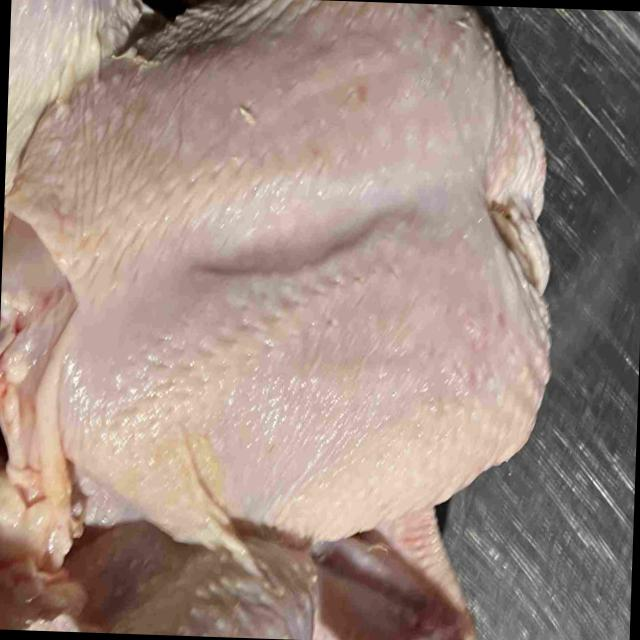breast: (19, 0, 549, 543)
leg: (5, 0, 142, 177), (92, 534, 317, 640)
wing: (314, 509, 475, 640)
